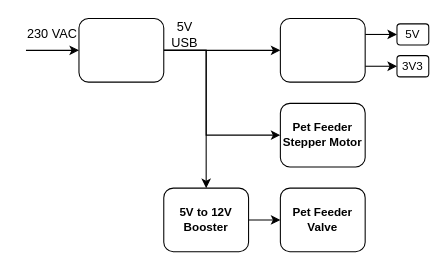
This 447x270 diagram has some shape labels left out. Each missing label, with the box of its shape:
Pet Feeder Control Board (ESP32): (279, 17, 365, 82)
Phone Charging Brick: (78, 17, 164, 82)
